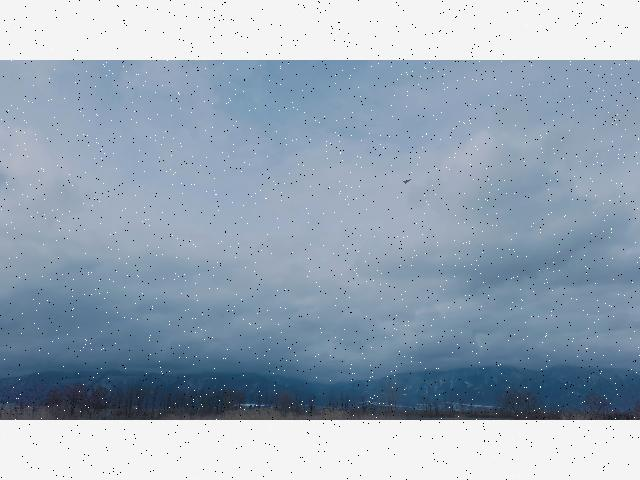Anti-Drone: (398, 176, 414, 188)
